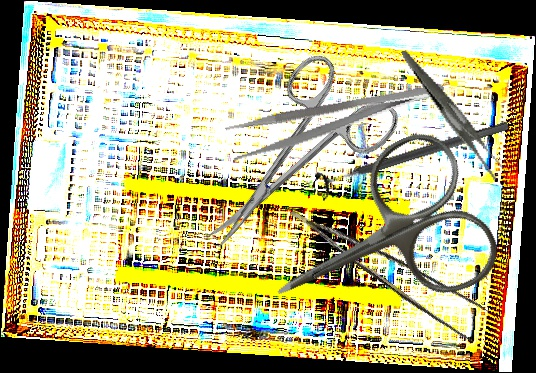Dressing Forceps: (224, 77, 450, 163), (401, 32, 507, 195)
Fixation Ring: (314, 111, 513, 202)
Iris Scissors: (241, 121, 509, 364), (169, 40, 407, 280)
Tissue Forceps: (289, 180, 497, 351)
